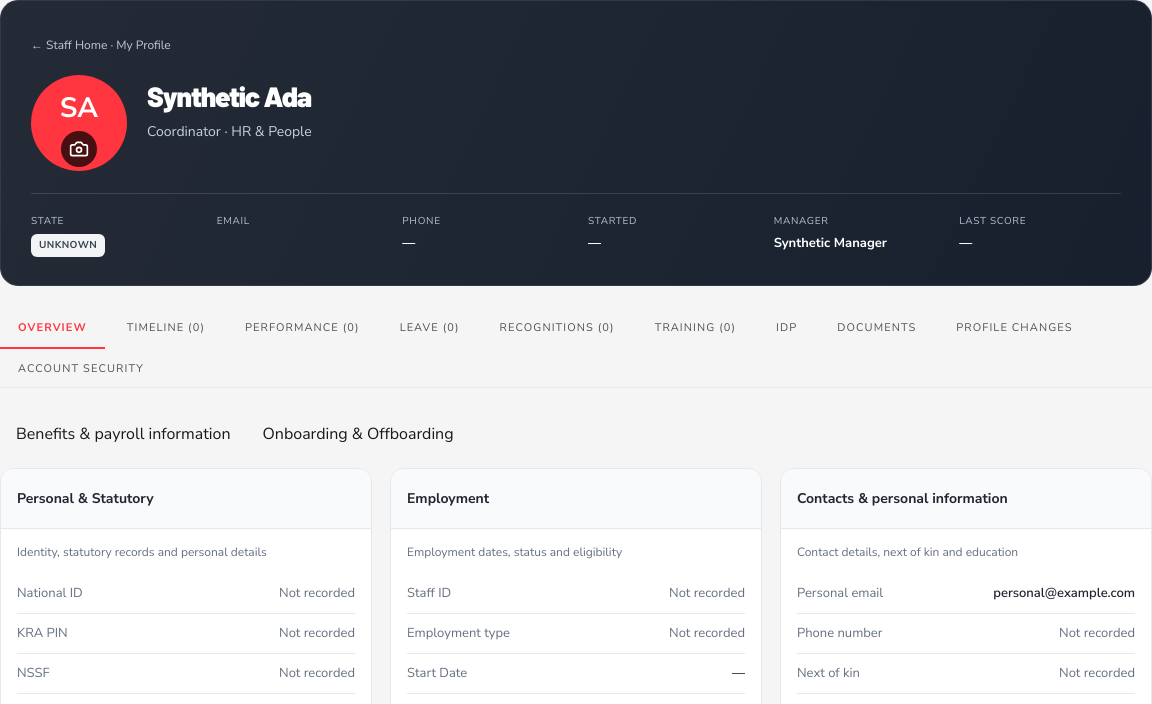
Test: documents use the resolved employee ID and explain conservative visibility
Step 1. Click the button "Documents" → (877, 329), box [819,310,934,348]
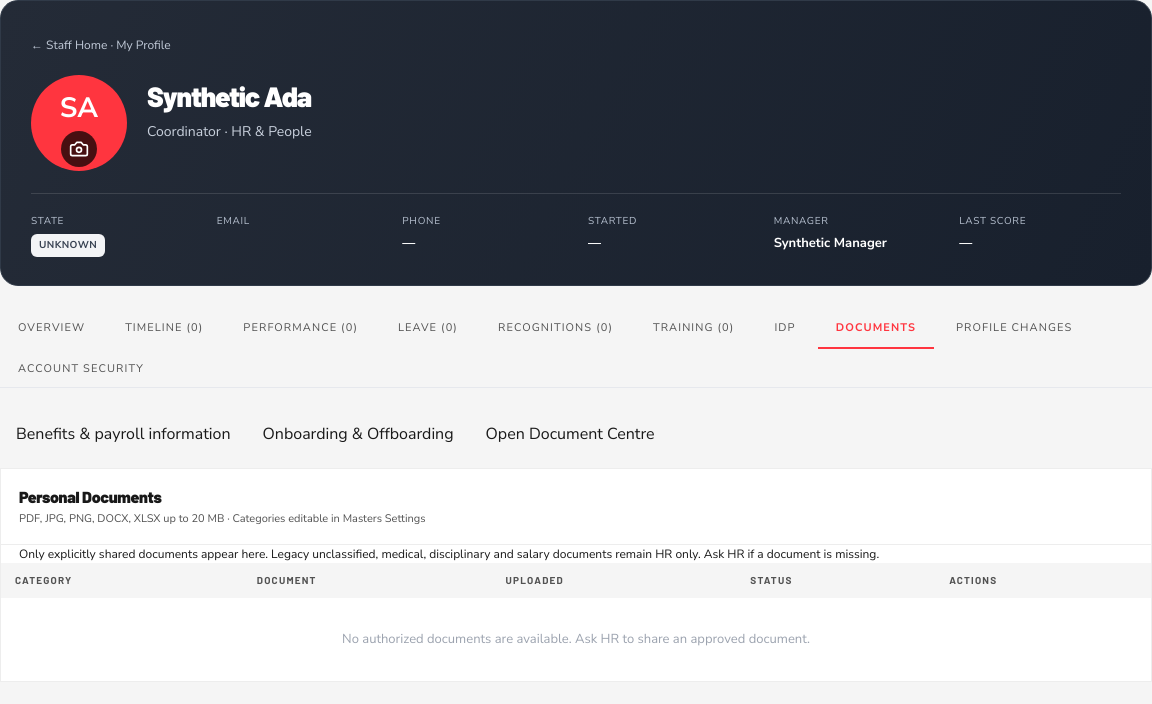
Expected: the text "Only explicitly shared documents" is shown, [19,546,879,562]
